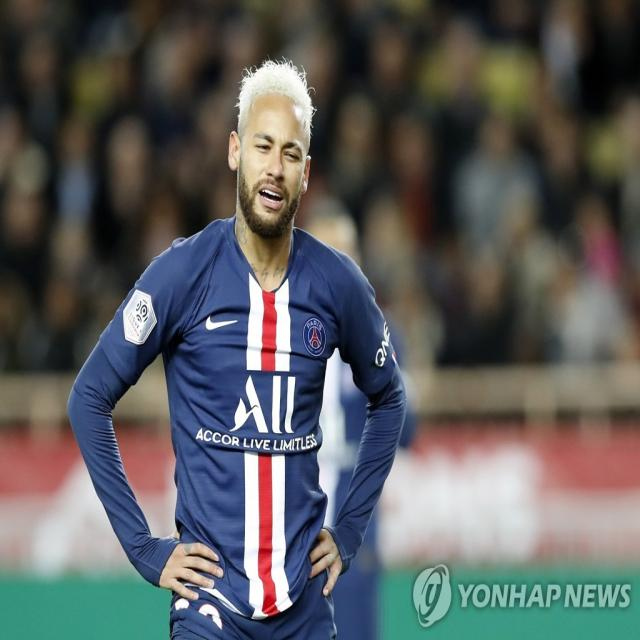neymar: (228, 72, 321, 228)
